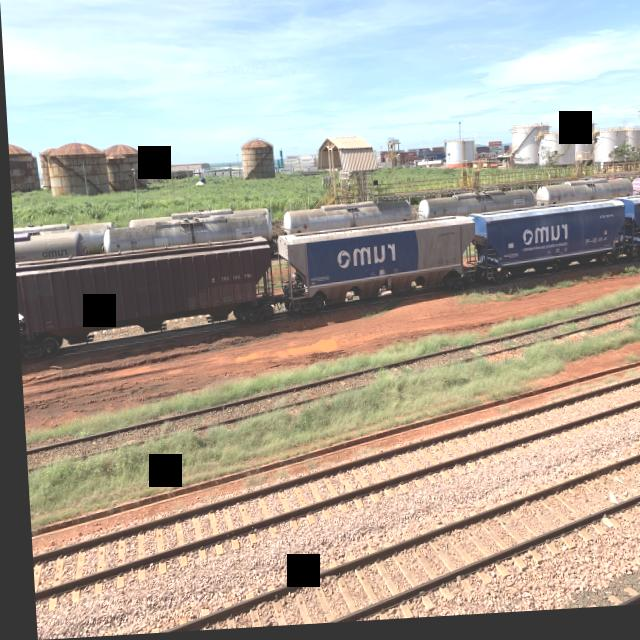hopper: (12, 234, 275, 360), (273, 212, 475, 320), (468, 195, 626, 291), (622, 197, 640, 268)
tank: (98, 214, 268, 254), (277, 200, 410, 244), (413, 193, 531, 227), (532, 181, 631, 216), (11, 227, 82, 269), (629, 178, 640, 206)
